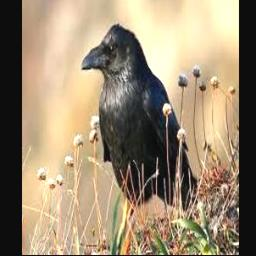Crow: (81, 22, 198, 214)
